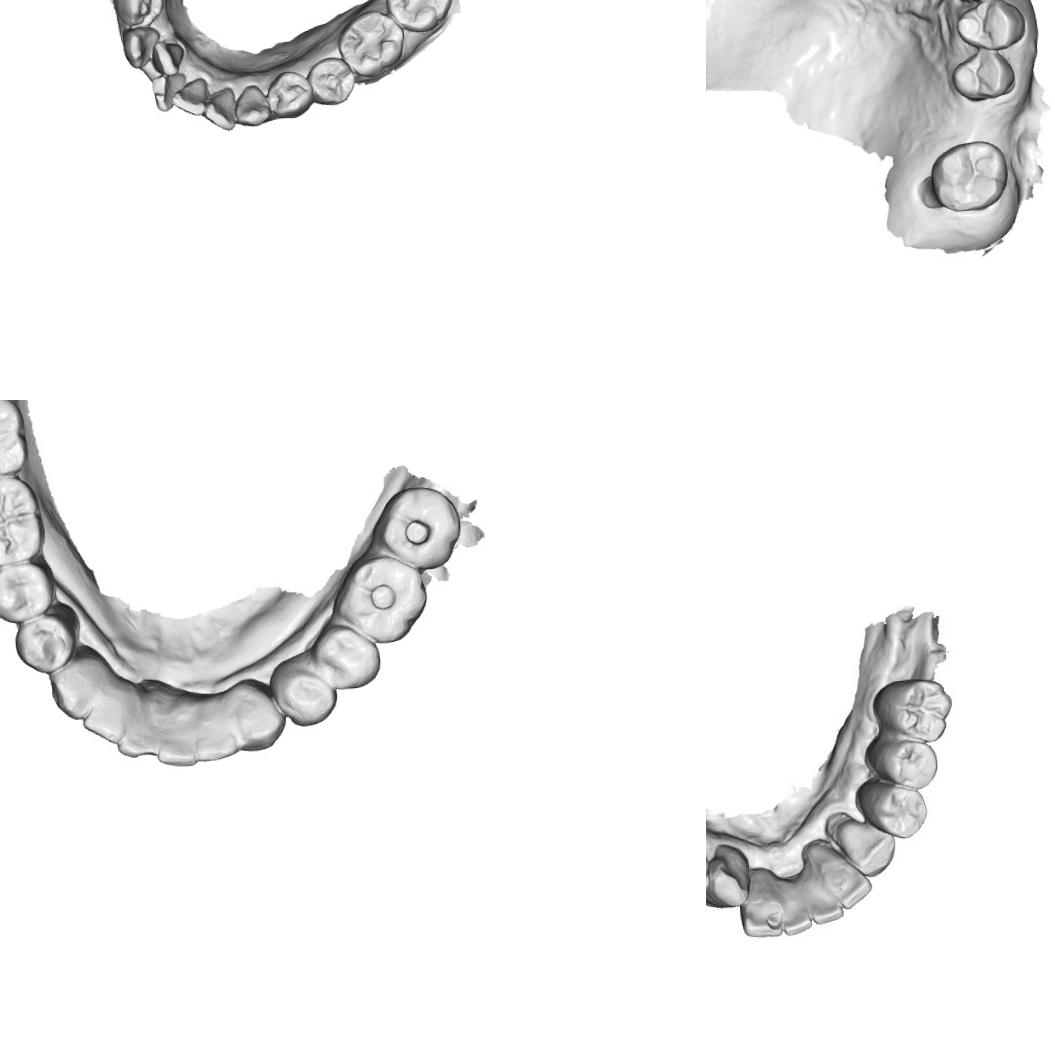canine: (836, 818, 898, 880), (44, 662, 105, 722), (234, 695, 288, 752), (706, 842, 750, 910), (118, 24, 165, 70), (232, 81, 272, 128)
incisor: (811, 842, 875, 918), (736, 870, 787, 938), (800, 869, 846, 927), (79, 698, 130, 748), (192, 715, 244, 764), (111, 721, 162, 763), (154, 722, 198, 769), (776, 878, 812, 934), (201, 84, 239, 132), (149, 70, 192, 112), (169, 74, 209, 118), (148, 40, 186, 76)
molar: (330, 551, 432, 647), (372, 482, 462, 574), (926, 136, 1008, 218), (868, 674, 958, 745), (334, 7, 408, 80), (0, 474, 46, 568), (381, 0, 454, 34), (0, 400, 29, 480)
premolar: (309, 620, 384, 694), (862, 731, 938, 791), (12, 608, 77, 676), (272, 664, 338, 729), (863, 782, 932, 841), (0, 557, 58, 626), (949, 47, 1018, 103), (953, 0, 1026, 52), (304, 54, 356, 107), (264, 68, 314, 120), (109, 0, 166, 29)
